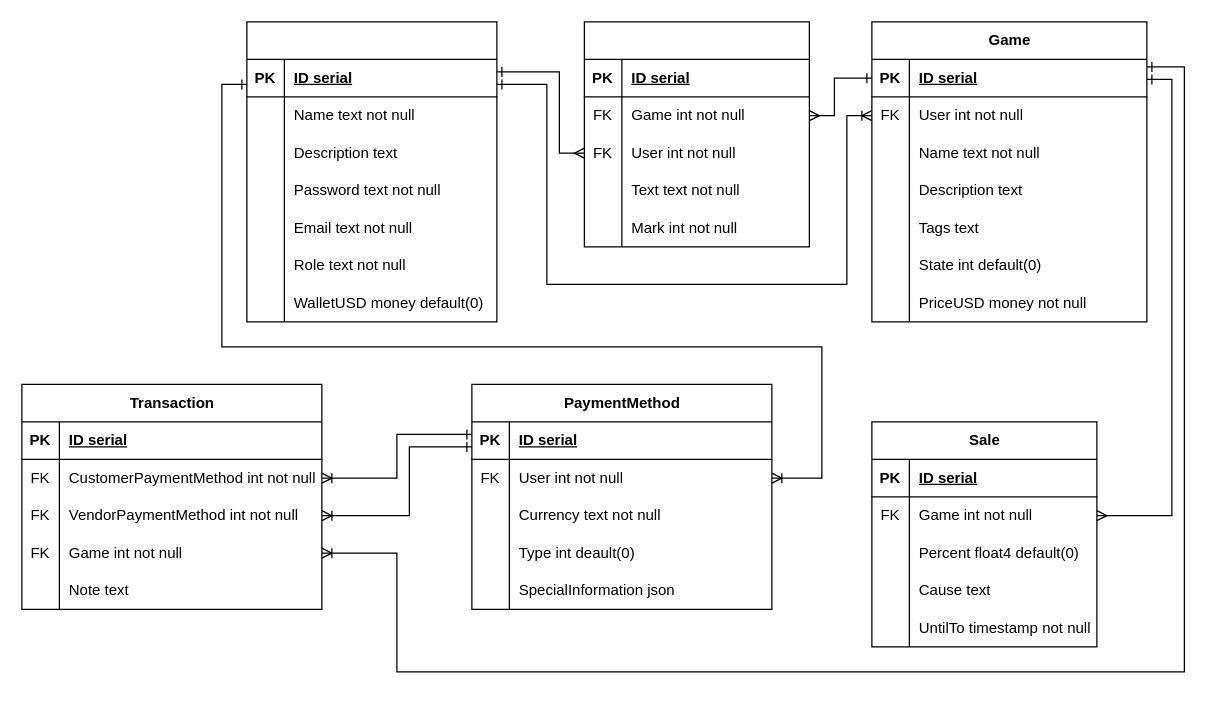
This 1218x705 diagram has some shape labels left out. Here are the shapes that lost their labels. From the top down, the box of each, then its label:
(583, 21, 809, 247): Review
(246, 21, 497, 322): User
